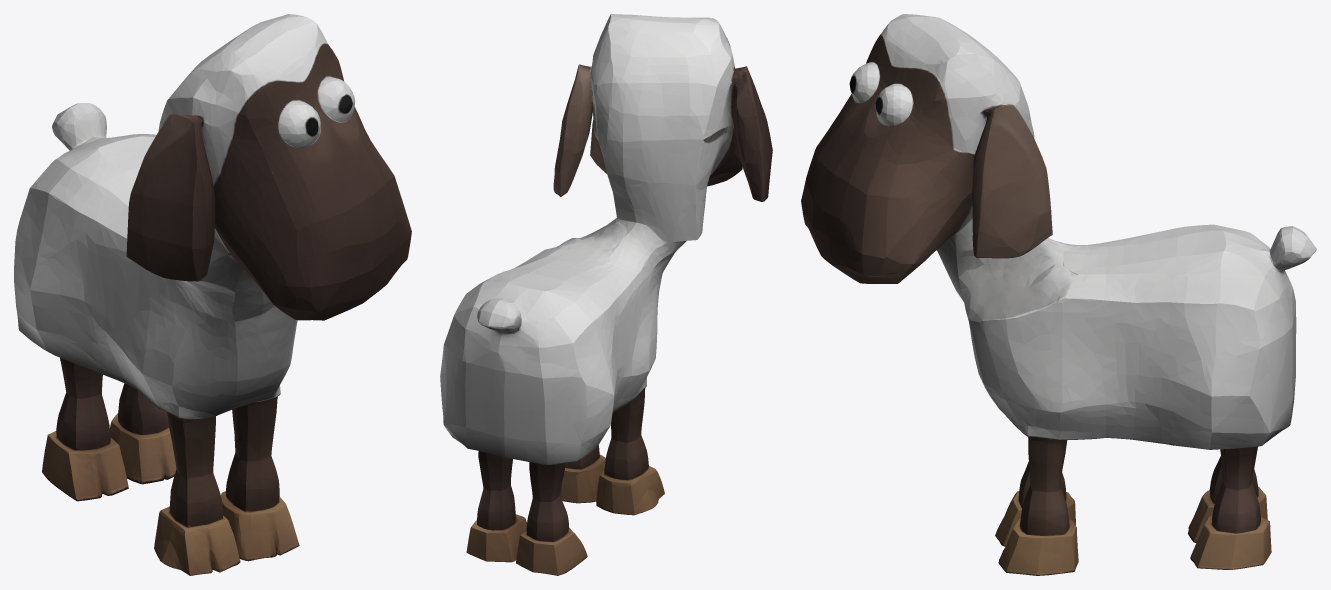
The model's file is appearance_edited_mesh.glb.
3 renders of one model, left to right at view 1: azimuth 30°, elevation 25°; view 2: azimuth 150°, elevation 25°; view 3: azimuth 270°, elevation 25°, orthographic. The views are drawn at different scales.
Visible parts, largest first — view 1: world; view 2: world; view 3: world.
Boxes of the visible parts, x1,y1,x2,y2 form: world: (14,14,411,575); world: (440,14,772,575); world: (801,14,1316,575).
Size of the model in its own units: 0.3449 by 0.7503 by 0.686.
Materials: 1 (1 with a texture image).
